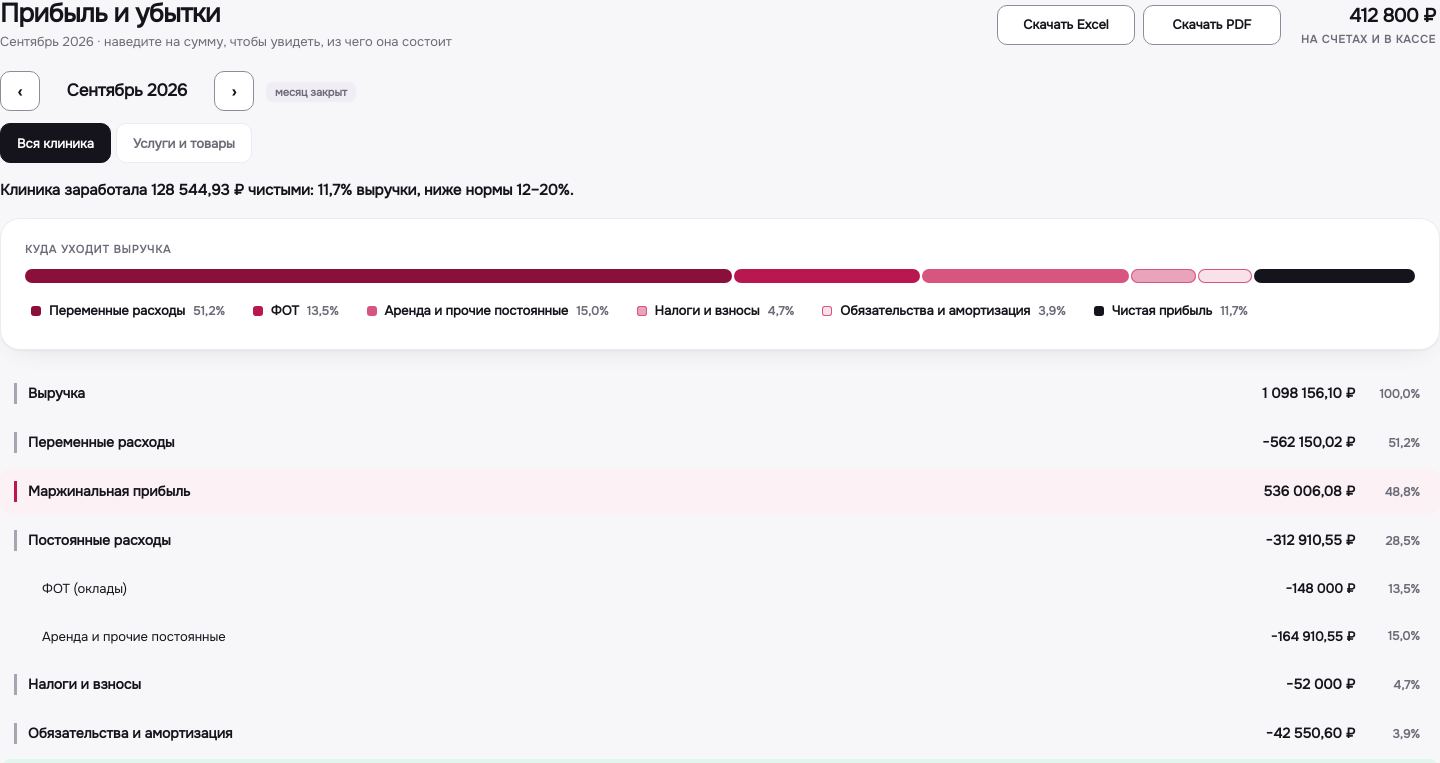
Test: PnlPage: the statement › leaves no sum or percent without a tip, in either view, and no forbidden words
Click the radio button with test id "pnl-view-direction" at coordinates (184, 143), box [116,123,252,163]
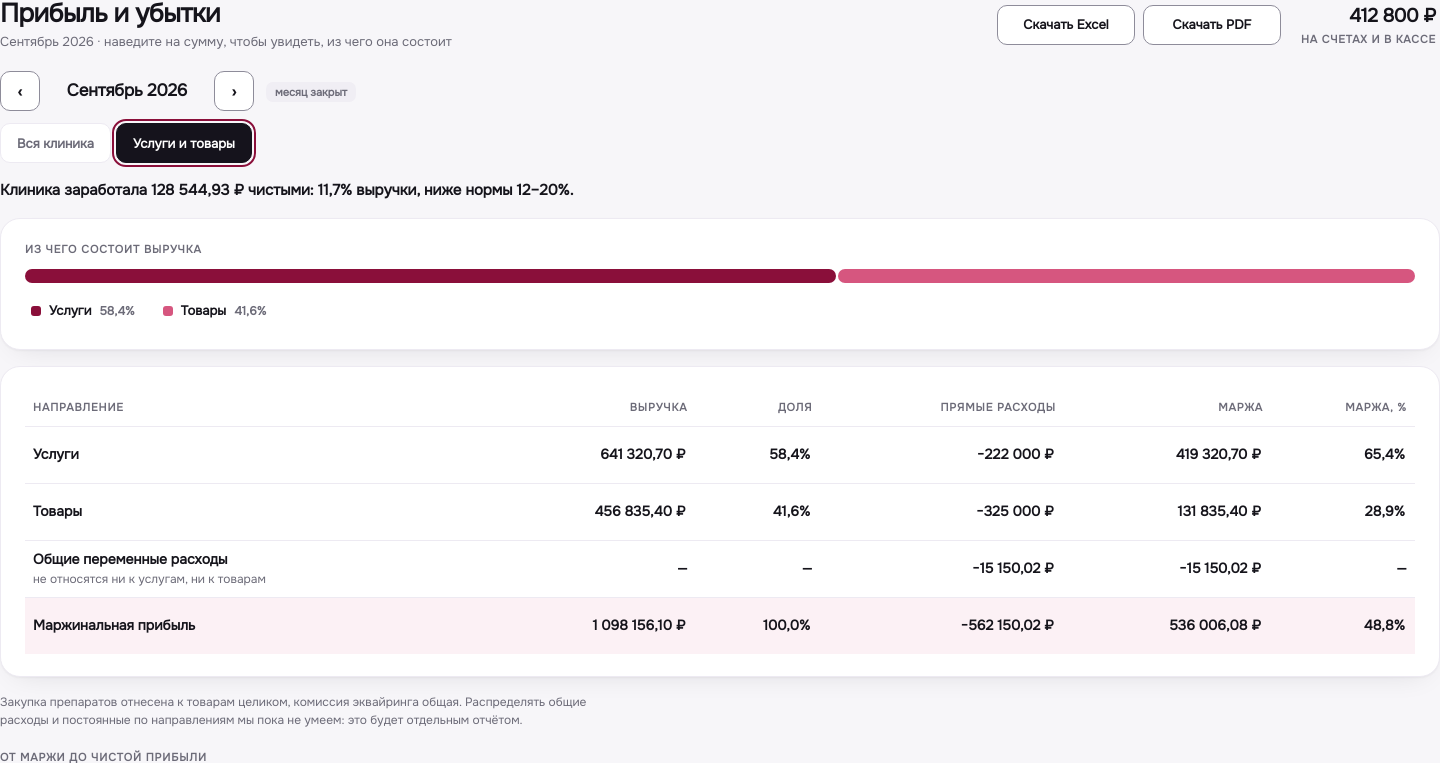
expect the number of rows with test id "pnl-direction" is 4: met, box [25,426,1415,483]; [25,483,1415,540]; [25,540,1415,597]; [25,597,1415,654]
